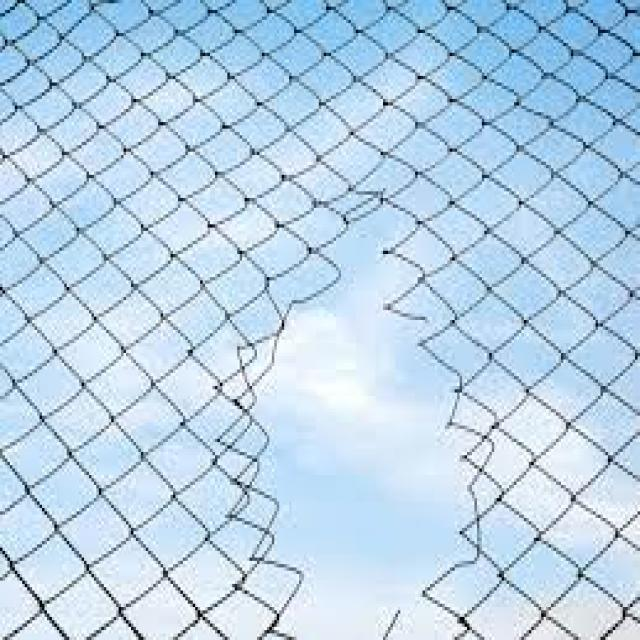fence line: (218, 180, 495, 635)
